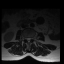CCS_normal: (27, 35, 29, 44)
LFS_normal: (31, 35, 33, 41)
LLS_normal: (29, 35, 31, 41)
RFS_normal: (24, 35, 26, 41)
RLS_normal: (26, 35, 27, 41)
